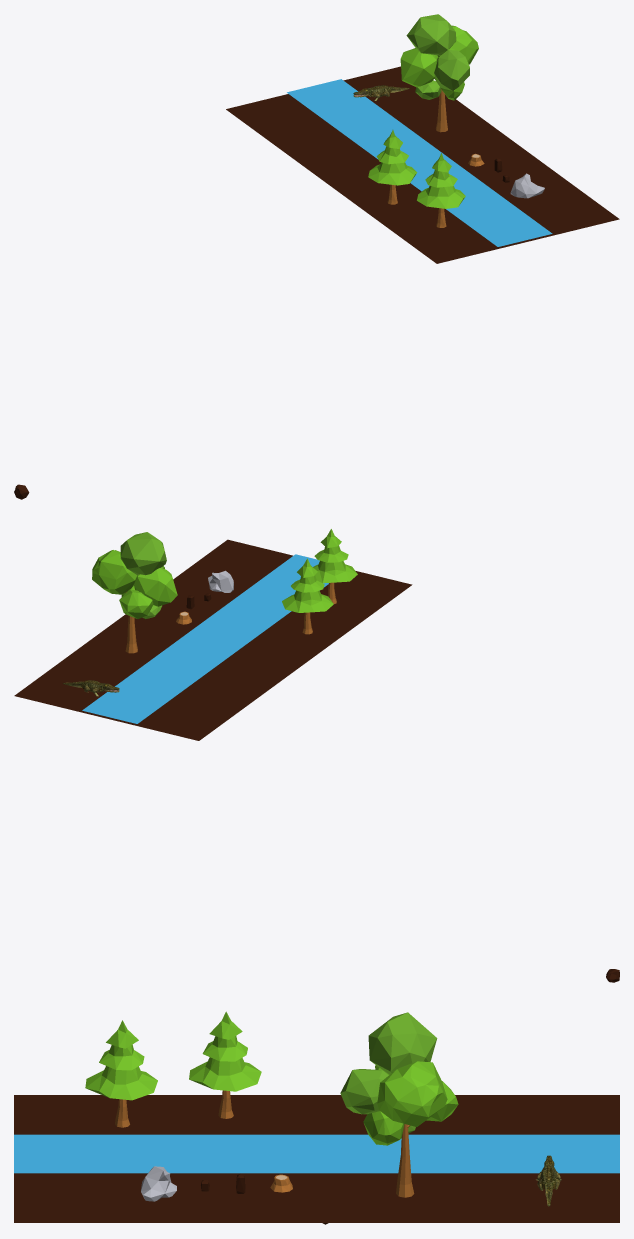
Rendered from all-component.glb.
The picture shows the model from 3 angles, top to bottom: view 1: azimuth 30°, elevation 25°; view 2: azimuth 150°, elevation 25°; view 3: azimuth 270°, elevation 25°; orthographic projection. The views are drawn at different scales.
Parts seen in each view (by area): view 1: Ground, river, Tree3, Tree2, Tree2 (1); view 2: Ground, river, Tree3, Tree2, Tree2 (1); view 3: Ground, river, Tree3, Tree2, Tree2 (1), Rock3, Material_001-material, TreeStump.
Part boxes in pixels (x1,y1,x2,y2): Ground: (226, 66, 619, 263); river: (287, 79, 552, 246); Tree3: (400, 14, 478, 132); Tree2: (368, 130, 417, 204); Tree2 (1): (417, 153, 465, 227); Ground: (14, 539, 412, 740); river: (82, 554, 328, 723); Tree3: (92, 532, 177, 653); Tree2: (282, 558, 333, 634); Tree2 (1): (313, 529, 357, 603); Ground: (14, 1095, 619, 1222); river: (14, 1134, 619, 1173); Tree3: (340, 1012, 458, 1197); Tree2: (189, 1011, 261, 1118); Tree2 (1): (85, 1020, 157, 1127); Rock3: (141, 1166, 176, 1201); Material_001-material: (540, 1165, 557, 1189); TreeStump: (270, 1174, 292, 1192).
Bounding box in the file's own units: 27.11 × 18.6 × 20.
Materials: 8 (1 with a texture image).
